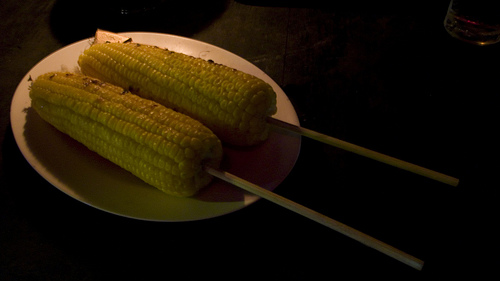corn: (26, 71, 221, 199), (75, 39, 279, 152)
